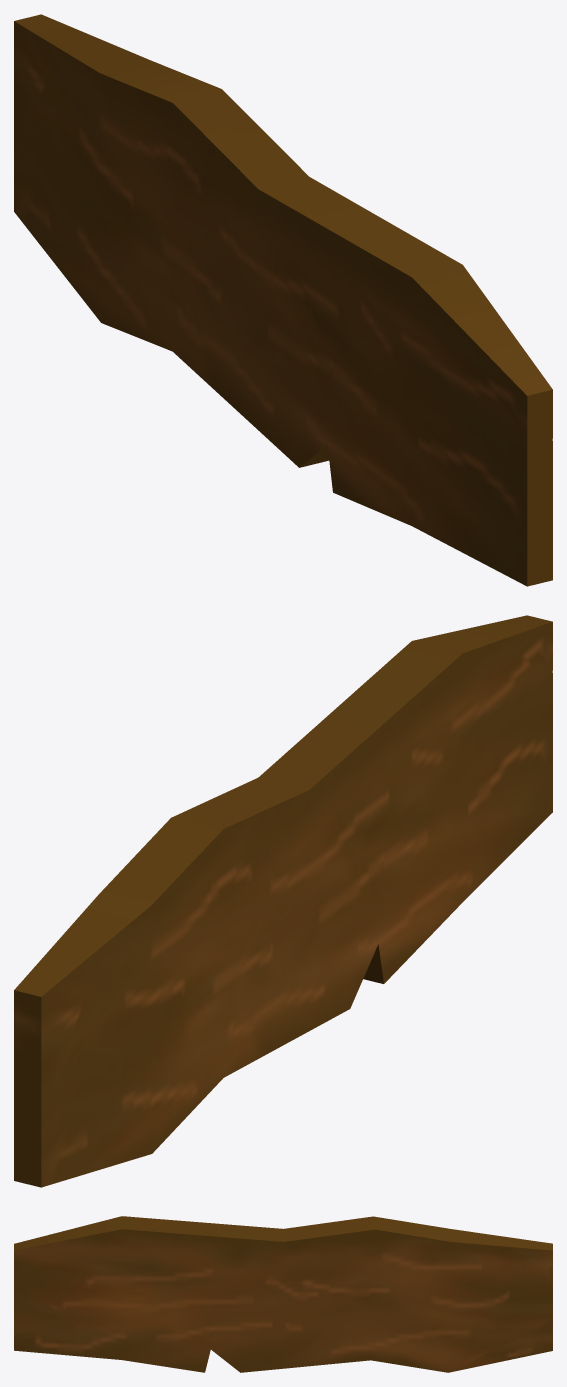
File: mizrak_duvar_duz222.fbx
3 renders of one model, top to bottom at view 1: azimuth 30°, elevation 25°; view 2: azimuth 150°, elevation 25°; view 3: azimuth 270°, elevation 25°, orthographic. The views are drawn at different scales.
Parts seen in each view (by area): view 1: Plane.011; view 2: Plane.011; view 3: Plane.011.
Boxes of the visible parts, x1=… form: Plane.011: x1=14, y1=14, x2=552, y2=586; Plane.011: x1=14, y1=615, x2=552, y2=1187; Plane.011: x1=14, y1=1216, x2=552, y2=1372.
Bounding box in the file's own units: 0.0575 × 0.294 × 1.
1 material, 1 textured.
